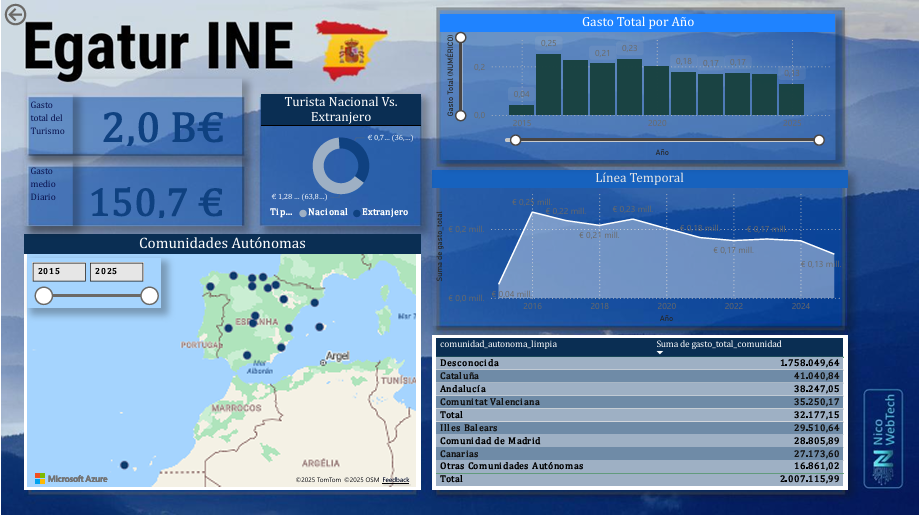

This screenshot's page, from the dashboard's own definition file:
{"tool":"powerbi","page":{"name":"Página 1","canvas":[1280,720],"ordinal":0},"visuals":[{"type":"cardVisual","title":"Gasto Medio Diario","fields":{"Data":["public egatur_datos_maestros.Gasto Total (M€)"]},"box":[32.2,214.5,303.9,100.1],"z":0},{"type":"cardVisual","title":"Gasto Total del Turismo","fields":{"Data":["public egatur_datos_maestros.Gasto Total (M€)"]},"box":[35.8,109.1,300.3,105.5],"z":1000},{"type":"lineChart","title":"Línea Temporal","fields":{"Category":["public dim_tiempo.id_fecha.Variación.Jerarquía de fechas.Año","public dim_tiempo.id_fecha.Variación.Jerarquía de fechas.Trimestre","public dim_tiempo.id_fecha.Variación.Jerarquía de fechas.Mes","public dim_tiempo.id_fecha.Variación.Jerarquía de fechas.Día"],"Y":["Sum(public egatur_datos_maestros.gasto_total)"]},"box":[600.7,237.8,579.2,216.3],"z":2000},{"type":"actionButton","box":[0,0,100,40],"z":3000},{"type":"clusteredColumnChart","title":"Gasto Total por Año","fields":{"Category":["public egatur_datos_maestros.fecha_analisis.Variación.Jerarquía de fechas.Año"],"Y":["public egatur_datos_maestros.Gasto Total (NUMÉRICO)"]},"box":[613.2,19.7,550.6,203.8],"z":4000},{"type":"donutChart","title":"Turista Nacional Vs. Extranjero","fields":{"Category":["public.egatur_datos_maestros.TipoTuristaLimpio","public egatur_datos_maestros.tipo_turista"],"Y":["Sum(public.egatur_datos_maestros.gasto_total)"]},"box":[362.9,130.5,221.7,184.1],"z":5000},{"type":"azureMap","title":"Comunidades Autónomas","fields":{"Size":["Sum(public.egatur_datos_maestros.gasto_total)"],"Y":["public comunidades_coordenadas.latitud"],"X":["public comunidades_coordenadas.longitud"]},"box":[32.2,327.2,552.4,355.8],"z":6000},{"type":"tableEx","fields":{"Values":["public egatur_gasto_por_comunidad_limpia.comunidad_autonoma_limpia","Sum(public egatur_gasto_por_comunidad_limpia.gasto_total_comunidad)"]},"box":[600.7,466.6,579.2,216.3],"z":6001},{"type":"slicer","fields":{"Values":["public.egatur_datos_maestros.fecha_analisis.Variación.Jerarquía de fechas.Año"]},"box":[35.8,359.3,187.7,69.7],"z":6002},{"type":"textbox","box":[35.8,130.5,64.4,84],"z":6003},{"type":"textbox","box":[35.8,223.5,64.4,91.2],"z":6004}]}

Visuals, with their boxes in screenshot pixels (x1, y1, x2, y2), scaled from the page's 1280x720 canvas onto the 920x516 screenshot:
"Gasto Medio Diario" cardVisual: 23,154,242,225
"Gasto Total del Turismo" cardVisual: 26,78,242,154
"Línea Temporal" lineChart: 432,170,848,325
actionButton: 0,0,72,29
"Gasto Total por Año" clusteredColumnChart: 441,14,836,160
"Turista Nacional Vs. Extranjero" donutChart: 261,94,420,225
"Comunidades Autónomas" azureMap: 23,234,420,489
tableEx - public egatur_gasto_por_comunidad_limpia.comunidad_autonoma_limpia x Sum(public egatur_gasto_por_comunidad_limpia.gasto_total_comunidad): 432,334,848,489
slicer - public.egatur_datos_maestros.fecha_analisis.Variación.Jerarquía de fechas.Año: 26,257,161,307
textbox: 26,94,72,154
textbox: 26,160,72,226
